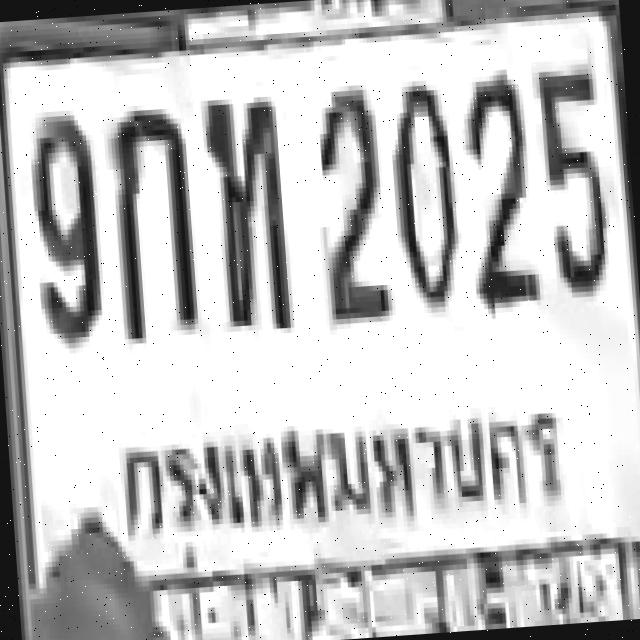0: (385, 78, 461, 310)
10GorGai: (104, 102, 196, 339)
2: (311, 83, 391, 324), (458, 68, 538, 304)
32ThorThaHan: (198, 90, 292, 328)
5: (534, 63, 606, 293)
9: (24, 106, 100, 342)
Bangkok: (109, 394, 578, 548)
